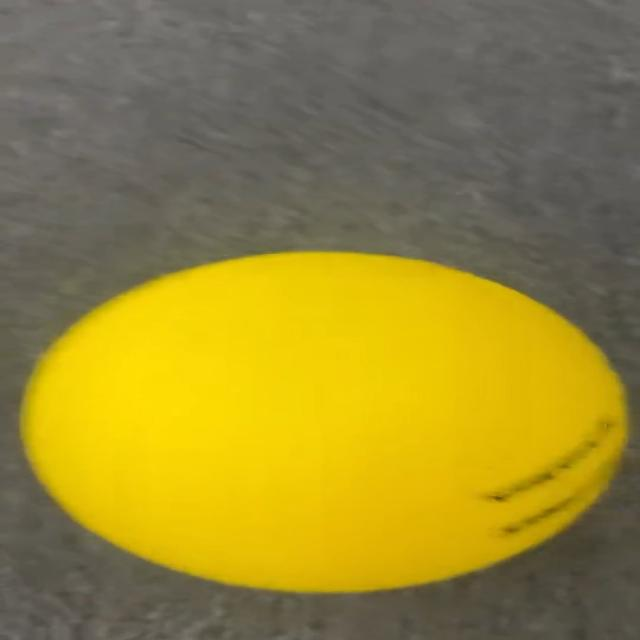Fuels: (22, 251, 628, 590)
